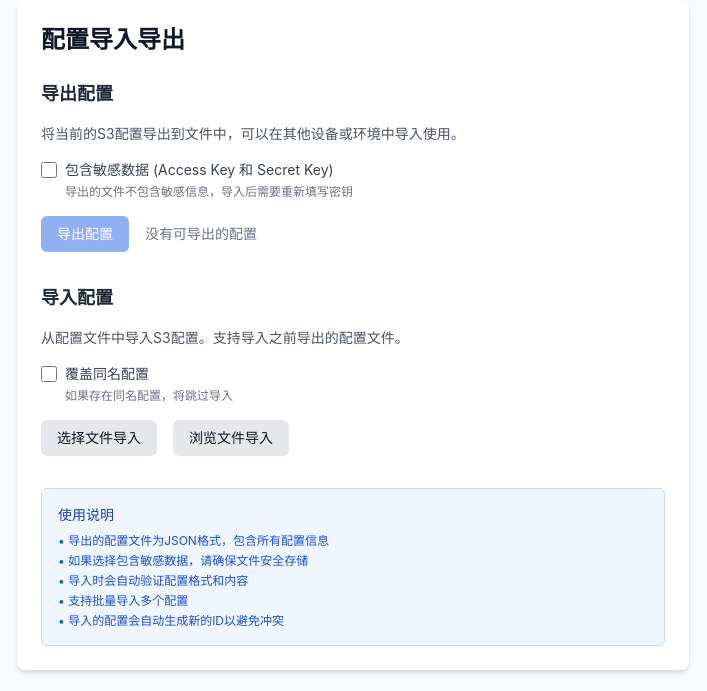
ConfigImportExport › Import Functionality › should update overwrite warning text
Expected: the text "如果存在同名配置，将跳过导入" is shown, left=65, top=388, right=233, bottom=403
Click the checkbox labelled "覆盖同名配置".
click(49, 374)  # box left=41, top=366, right=57, bottom=382
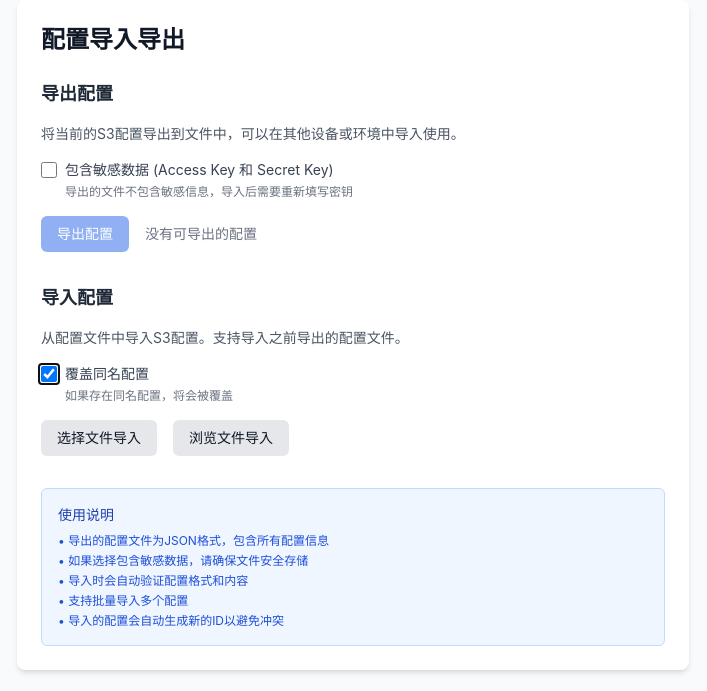
Result: the text "如果存在同名配置，将会被覆盖" is shown at left=65, top=388, right=233, bottom=403
